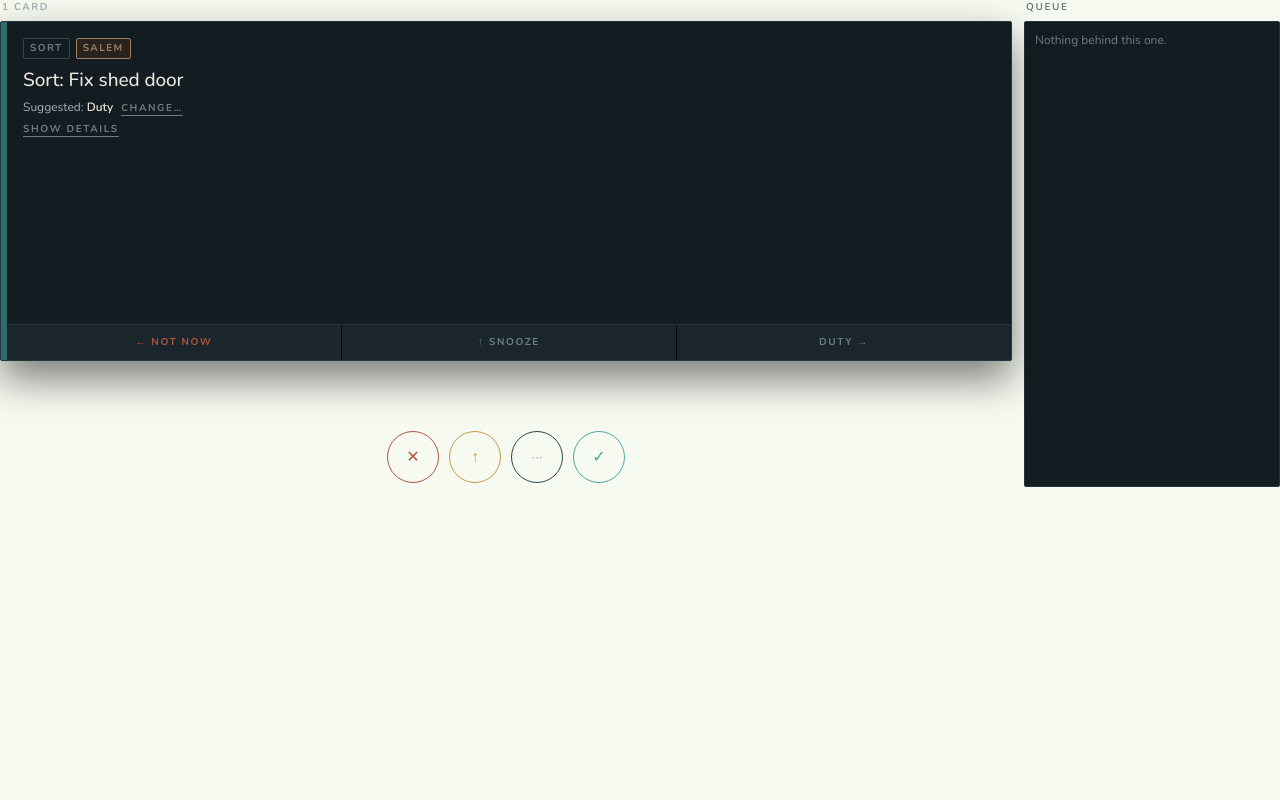
Test: the affirm hold-selector › holding a partial → opens the selector after GESTURE_HOLD_MS, suggested marked
Press the mouse on the element with test id "deck-card" at [506, 191], box [0, 21, 1012, 361]
Wait 450 ms
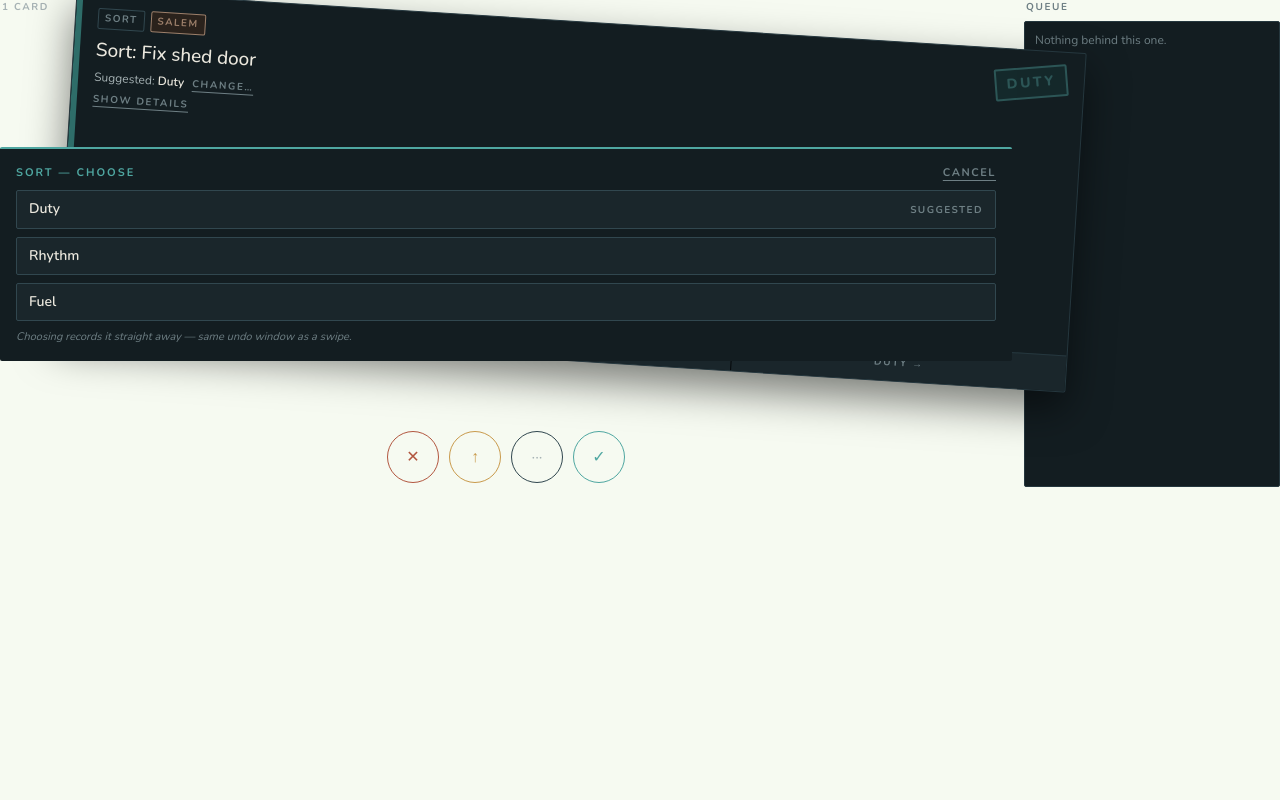
Now the button with test id "deck-hold-choice-sort_duty" is shown, box [16, 190, 996, 228]
Now the button with test id "deck-hold-choice-sort_rhythm" is shown, box [16, 236, 996, 274]
Now the button with test id "deck-hold-choice-sort_fuel" is shown, box [16, 282, 996, 320]
